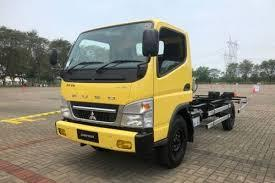truck: (43, 15, 200, 160)
